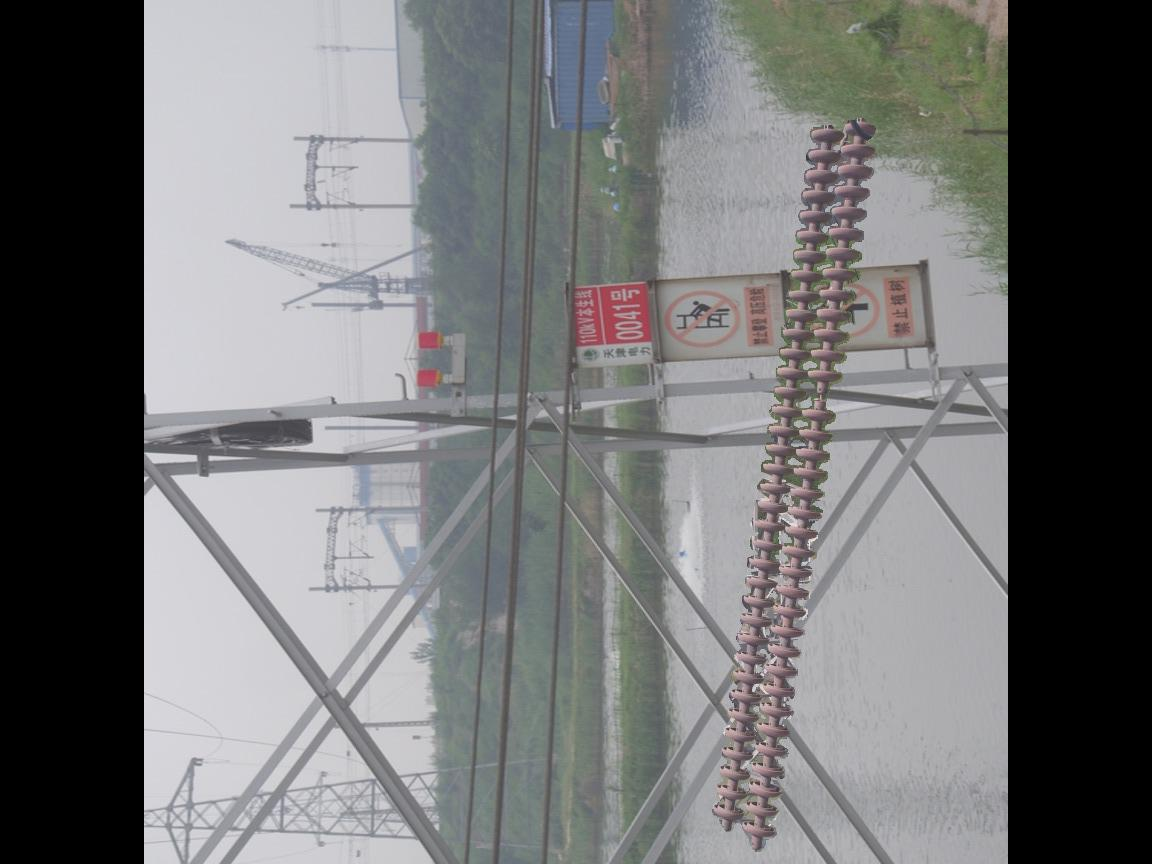insulator: (711, 117, 879, 848)
insulator_stringdrop: (798, 365, 844, 425)
